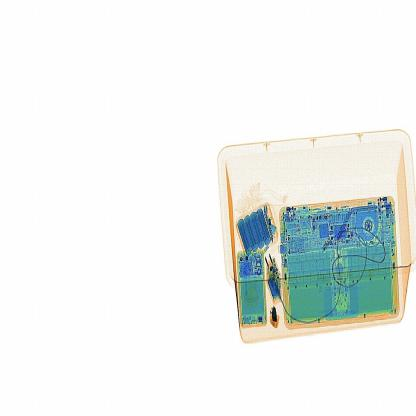wrench: (266, 303, 284, 334)
